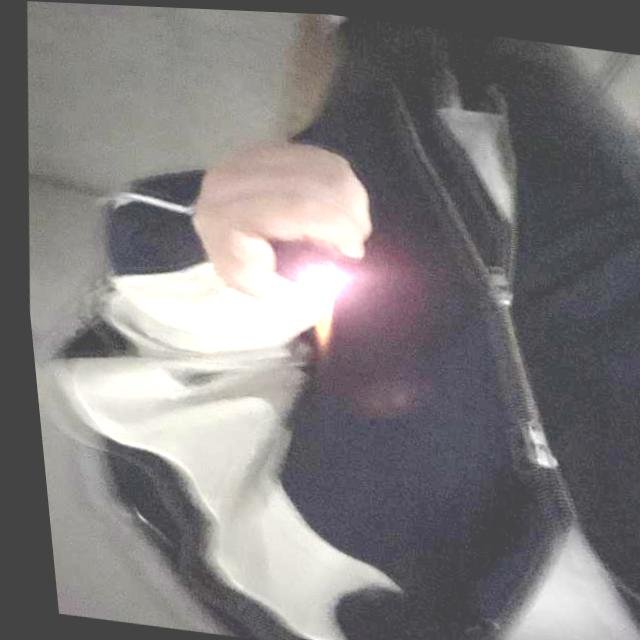Fire: (297, 265, 336, 348)
